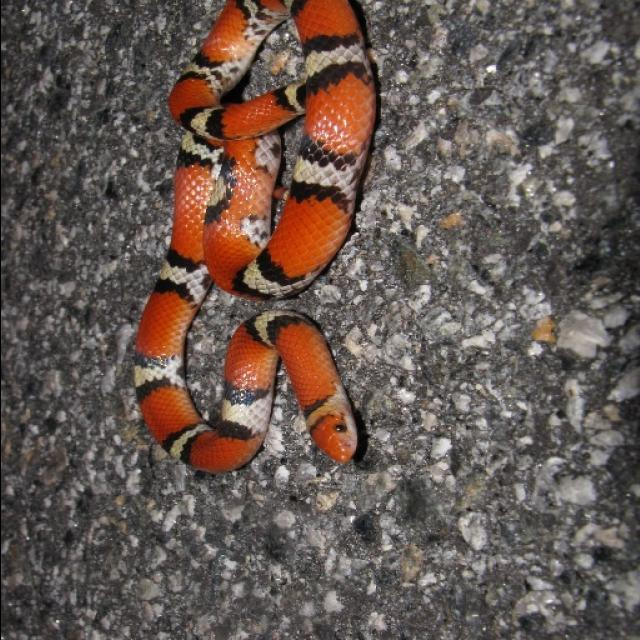snake: (108, 2, 436, 495)
